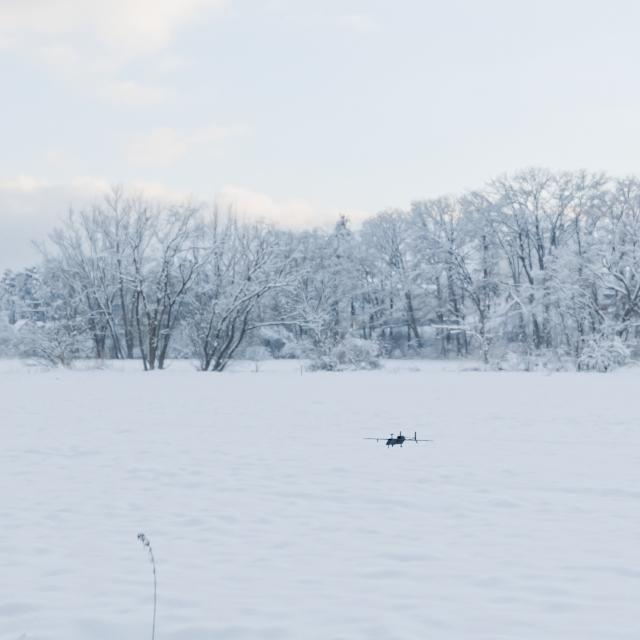Airaplan: (362, 431, 434, 449)
